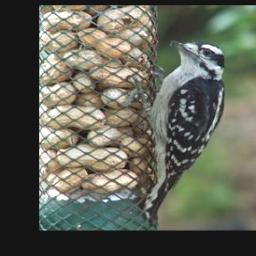Woodpecker: (123, 37, 238, 225)
